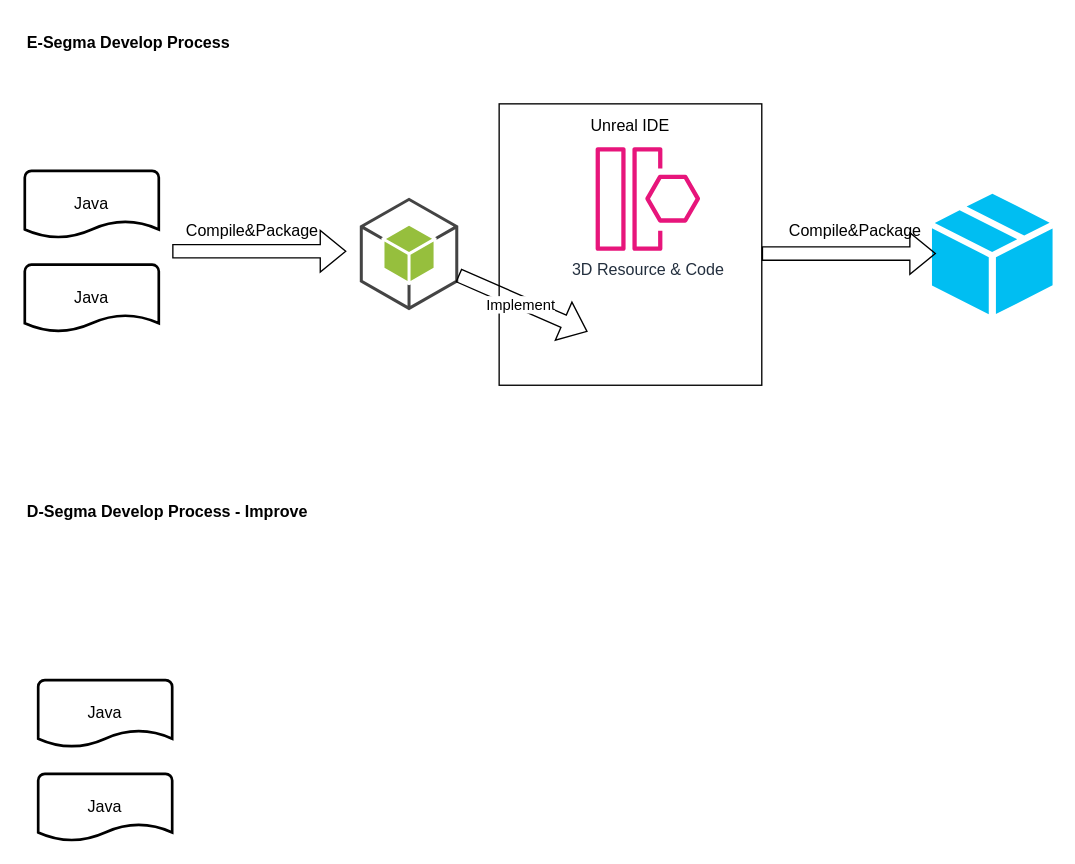
Some shapes in this 1075 by 864 pixel diagram are drawn without their labels. The centre of each missing label's shape, as x and y in pixels:
"AAR/SDK" goes at point (408, 253).
"APK" goes at point (991, 253).
